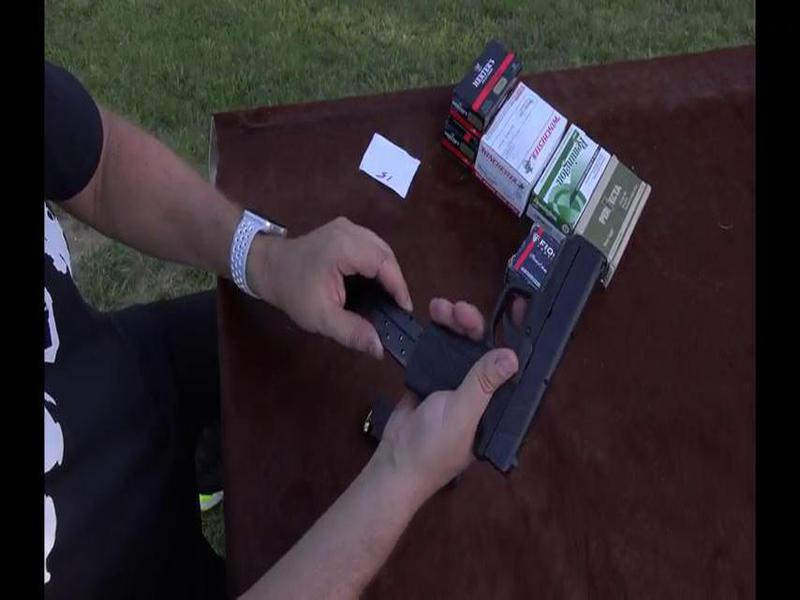Pistola: (409, 209, 627, 482)
